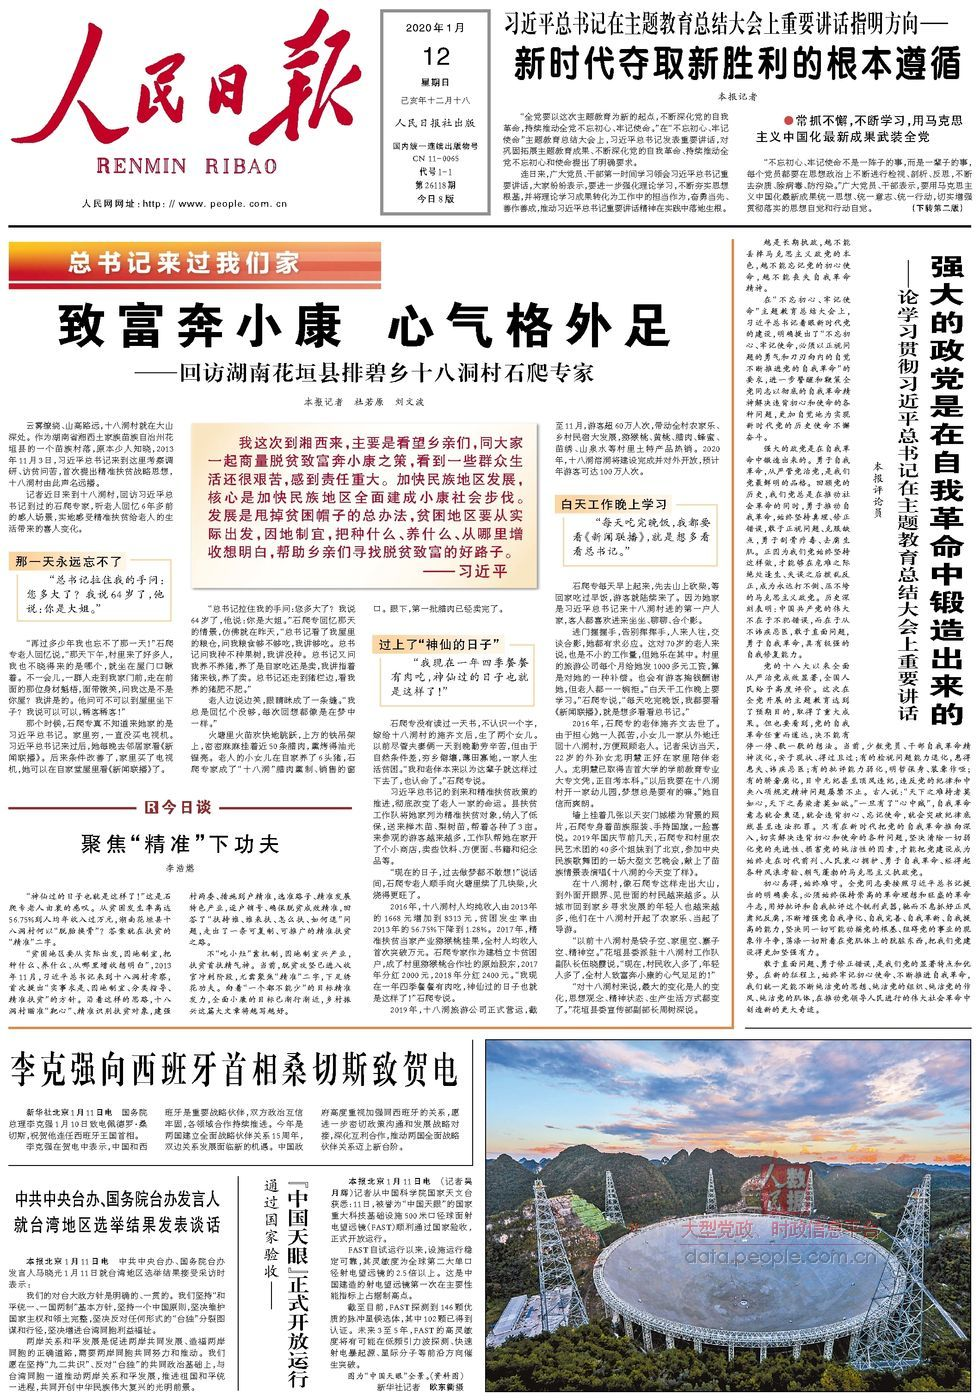pic: (481, 1034, 975, 1397)
